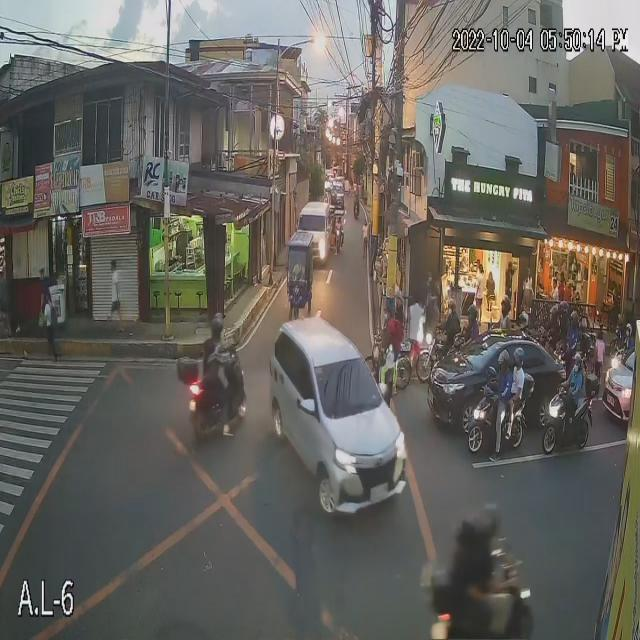helmet: (470, 509, 502, 546), (460, 514, 480, 551), (206, 311, 225, 342), (496, 348, 513, 373), (570, 354, 586, 375), (512, 349, 527, 369), (446, 298, 460, 319), (466, 305, 481, 324), (518, 310, 531, 330), (549, 306, 561, 327), (570, 312, 583, 330), (558, 301, 569, 320), (499, 297, 511, 313), (623, 323, 633, 338)
motorcycle: (423, 561, 534, 640), (177, 345, 247, 449), (466, 388, 530, 451), (544, 383, 596, 454), (416, 331, 449, 383), (351, 199, 360, 223)
rider: (445, 514, 482, 592), (478, 505, 509, 593), (202, 309, 228, 406), (562, 351, 586, 412), (492, 346, 512, 416), (510, 345, 530, 410), (441, 297, 459, 349), (563, 309, 584, 353), (462, 302, 484, 342), (495, 292, 512, 331), (556, 300, 571, 339), (546, 304, 560, 341), (623, 320, 636, 351), (520, 308, 530, 337)
